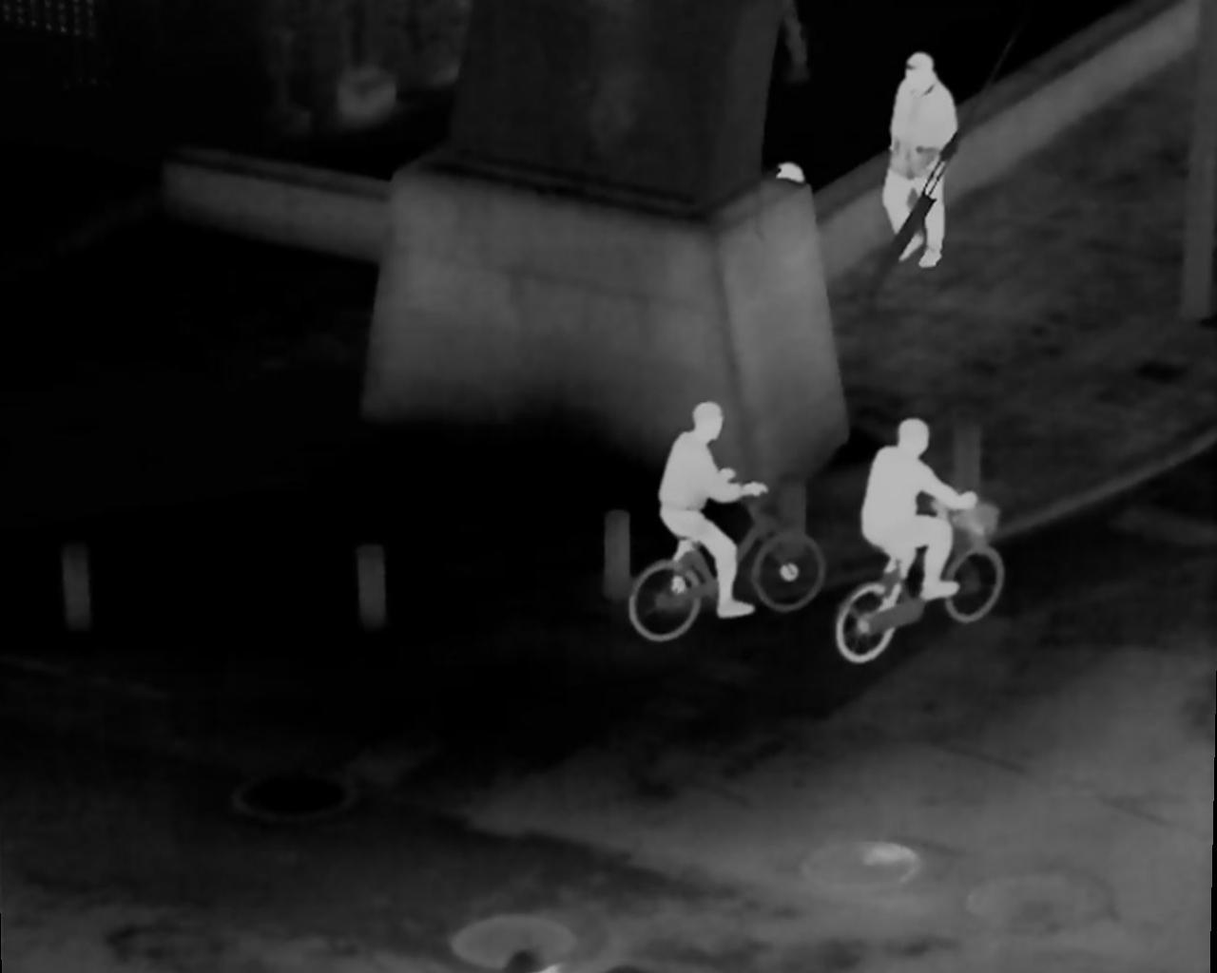person: (658, 399, 775, 618), (859, 419, 988, 615), (873, 52, 965, 268)
